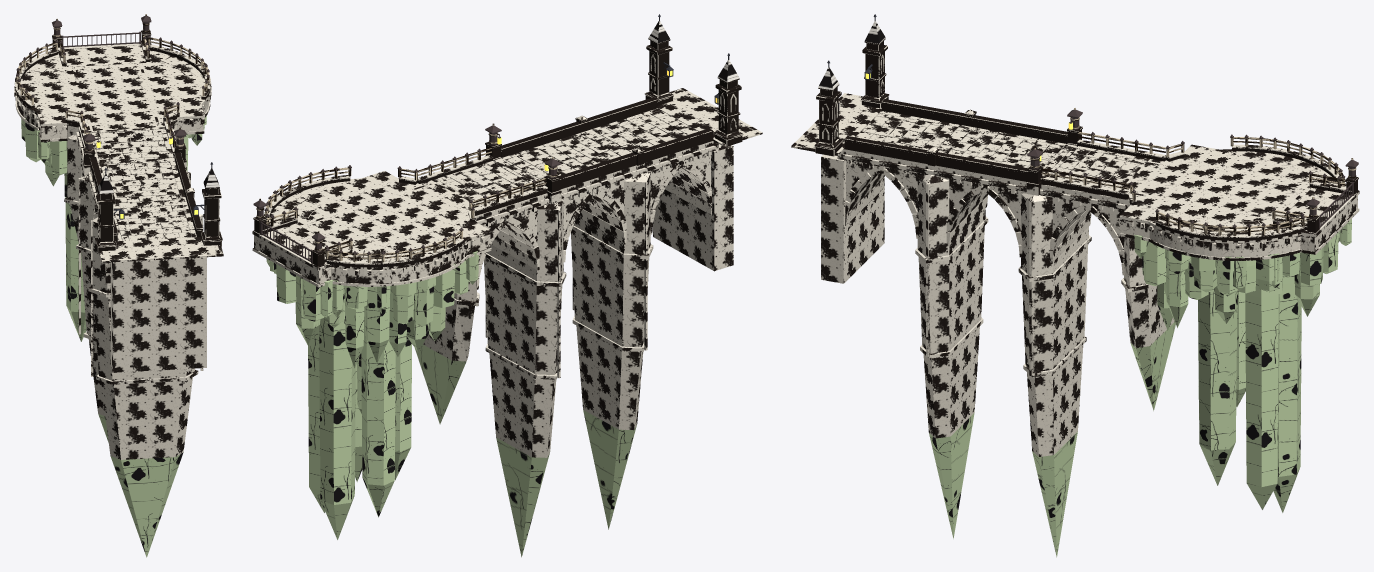
Rendered from ILHA3_08_NEXT_ISLAND_f6fdb3.fbx.
3 views of the same model, side by side, from view 1: azimuth 30°, elevation 25°; view 2: azimuth 150°, elevation 25°; view 3: azimuth 270°, elevation 25° (orthographic). The views are drawn at different scales.
Parts seen in each view (by area): view 1: SG_Exit_Bridge__Stone_SG_Block, SG_Exit_Bridge__Stone_Paving_SG, SG_Exit_Bridge__Cliff_Rock_SG_Dark, SG_Exit_Bridge__Stone_SG_Trim, SG_Exit_Rails__Stone_SG_Trim, SG_Exit_Head__Stone_Paving_SG, SG_Exit_Rails__Wood_Lacquer_Red, SG_Exit_Head__Stone_SG_Castle_B, SG_Exit_Head__Stone_SG_Trim, SG_Exit_Rails__P_DS_Black, SG_Exit_Bridge__Stone_SG_Floor, SG_Exit_Rails__Stone_SG_Block (+3 smaller); view 2: SG_Exit_Bridge__Stone_SG_Block, SG_Exit_Bridge__Cliff_Rock_SG_Dark, SG_Exit_Bridge__Stone_Paving_SG, SG_Exit_Bridge__Stone_SG_Trim, SG_Exit_Rails__Stone_SG_Trim, SG_Exit_Rails__Wood_Lacquer_Red, SG_Exit_Rails__Stone_SG_Block, SG_Exit_Bridge__Cliff_Rock_SG, SG_Exit_Rails__Stone_SG_Block_B, SG_Exit_Head__Stone_SG_Castle_B, SG_Exit_Head__Stone_Paving_SG, SG_Exit_Head__Stone_SG_Trim (+1 smaller); view 3: SG_Exit_Bridge__Stone_SG_Block, SG_Exit_Bridge__Cliff_Rock_SG_Dark, SG_Exit_Bridge__Stone_Paving_SG, SG_Exit_Bridge__Stone_SG_Trim, SG_Exit_Rails__Stone_SG_Trim, SG_Exit_Bridge__Cliff_Rock_SG, SG_Exit_Rails__Wood_Lacquer_Red, SG_Exit_Rails__Stone_SG_Block, SG_Exit_Rails__Stone_SG_Block_B, SG_Exit_Head__Stone_SG_Castle_B, SG_Exit_Head__Stone_Paving_SG, SG_Exit_Head__Stone_SG_Trim (+1 smaller).
Part boxes in pixels (bbox=[...]): SG_Exit_Bridge__Stone_SG_Block: bbox=[17, 99, 208, 459]; SG_Exit_Bridge__Stone_Paving_SG: bbox=[20, 43, 205, 240]; SG_Exit_Bridge__Cliff_Rock_SG_Dark: bbox=[21, 116, 206, 557]; SG_Exit_Bridge__Stone_SG_Trim: bbox=[14, 43, 211, 384]; SG_Exit_Rails__Stone_SG_Trim: bbox=[14, 30, 211, 234]; SG_Exit_Head__Stone_Paving_SG: bbox=[102, 237, 220, 259]; SG_Exit_Rails__Wood_Lacquer_Red: bbox=[16, 14, 209, 151]; SG_Exit_Head__Stone_SG_Castle_B: bbox=[98, 188, 219, 242]; SG_Exit_Head__Stone_SG_Trim: bbox=[95, 183, 223, 262]; SG_Exit_Rails__P_DS_Black: bbox=[16, 15, 209, 152]; SG_Exit_Bridge__Stone_SG_Floor: bbox=[23, 56, 194, 240]; SG_Exit_Rails__Stone_SG_Block: bbox=[15, 43, 210, 236]; SG_Exit_Bridge__Stone_SG_Block: bbox=[254, 141, 733, 457]; SG_Exit_Bridge__Cliff_Rock_SG_Dark: bbox=[266, 251, 636, 557]; SG_Exit_Bridge__Stone_Paving_SG: bbox=[252, 110, 698, 267]; SG_Exit_Bridge__Stone_SG_Trim: bbox=[252, 108, 716, 379]; SG_Exit_Rails__Stone_SG_Trim: bbox=[253, 97, 713, 267]; SG_Exit_Rails__Wood_Lacquer_Red: bbox=[256, 123, 557, 262]; SG_Exit_Rails__Stone_SG_Block: bbox=[262, 101, 657, 268]; SG_Exit_Bridge__Cliff_Rock_SG: bbox=[267, 259, 445, 340]; SG_Exit_Rails__Stone_SG_Block_B: bbox=[278, 133, 713, 268]; SG_Exit_Head__Stone_SG_Castle_B: bbox=[649, 40, 738, 134]; SG_Exit_Head__Stone_Paving_SG: bbox=[657, 90, 757, 144]; SG_Exit_Head__Stone_SG_Trim: bbox=[644, 38, 762, 146]; SG_Exit_Bridge__Stone_SG_Block: bbox=[821, 149, 1357, 456]; SG_Exit_Bridge__Cliff_Rock_SG_Dark: bbox=[929, 219, 1351, 557]; SG_Exit_Bridge__Stone_Paving_SG: bbox=[856, 113, 1349, 240]; SG_Exit_Bridge__Stone_SG_Trim: bbox=[841, 111, 1359, 377]; SG_Exit_Rails__Stone_SG_Trim: bbox=[844, 99, 1359, 237]; SG_Exit_Bridge__Cliff_Rock_SG: bbox=[1142, 232, 1338, 299]; SG_Exit_Rails__Wood_Lacquer_Red: bbox=[1030, 108, 1356, 236]; SG_Exit_Rails__Stone_SG_Block: bbox=[844, 114, 1337, 242]; SG_Exit_Rails__Stone_SG_Block_B: bbox=[881, 104, 1351, 242]; SG_Exit_Head__Stone_SG_Castle_B: bbox=[819, 41, 884, 144]; SG_Exit_Head__Stone_Paving_SG: bbox=[796, 95, 881, 153]; SG_Exit_Head__Stone_SG_Trim: bbox=[791, 38, 889, 155].
Bounding box in the file's own units: 70.96 × 108 × 115.
7 materials, 4 textured.
